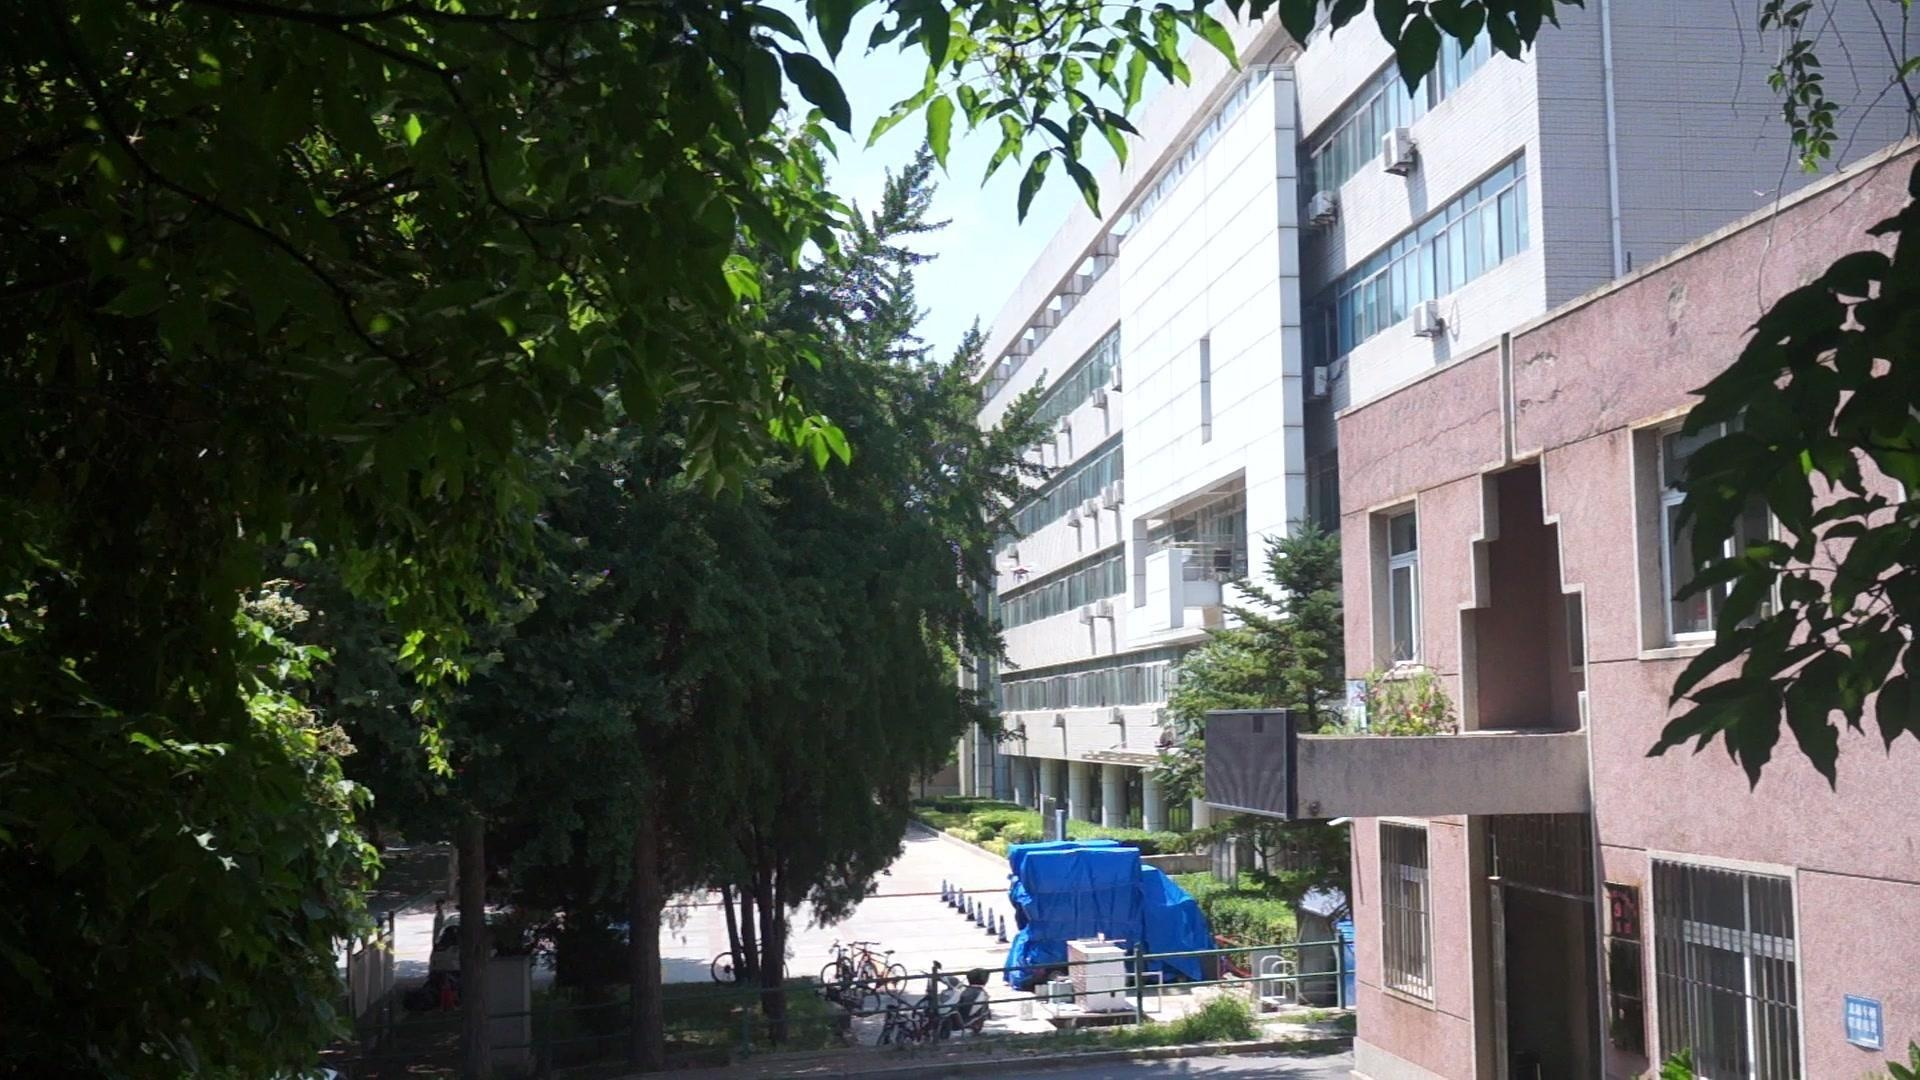UAV: (1011, 568, 1036, 585)
